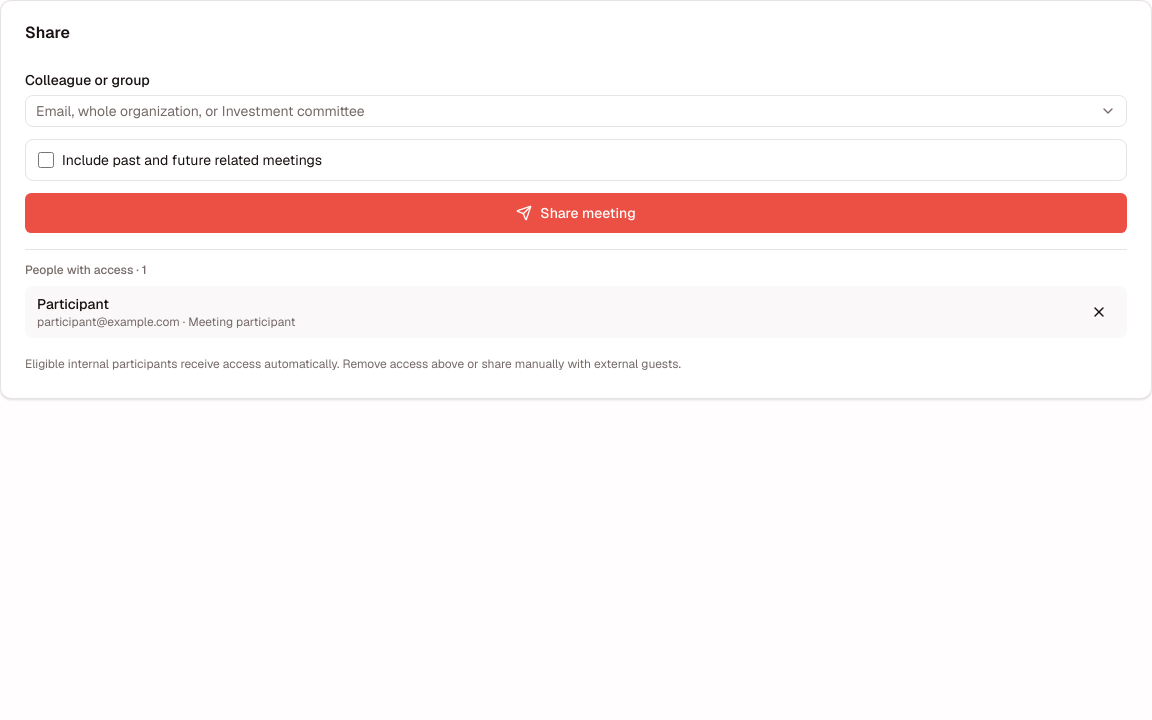
Scenario: ShareDialog interactions › shares one meeting and refreshes the access list
This screenshot has width=1152, height=720.
In the dropdown: coordinates (560, 111) x1=26 y1=96 x2=1094 y2=126, type "sid@iosg.vc"
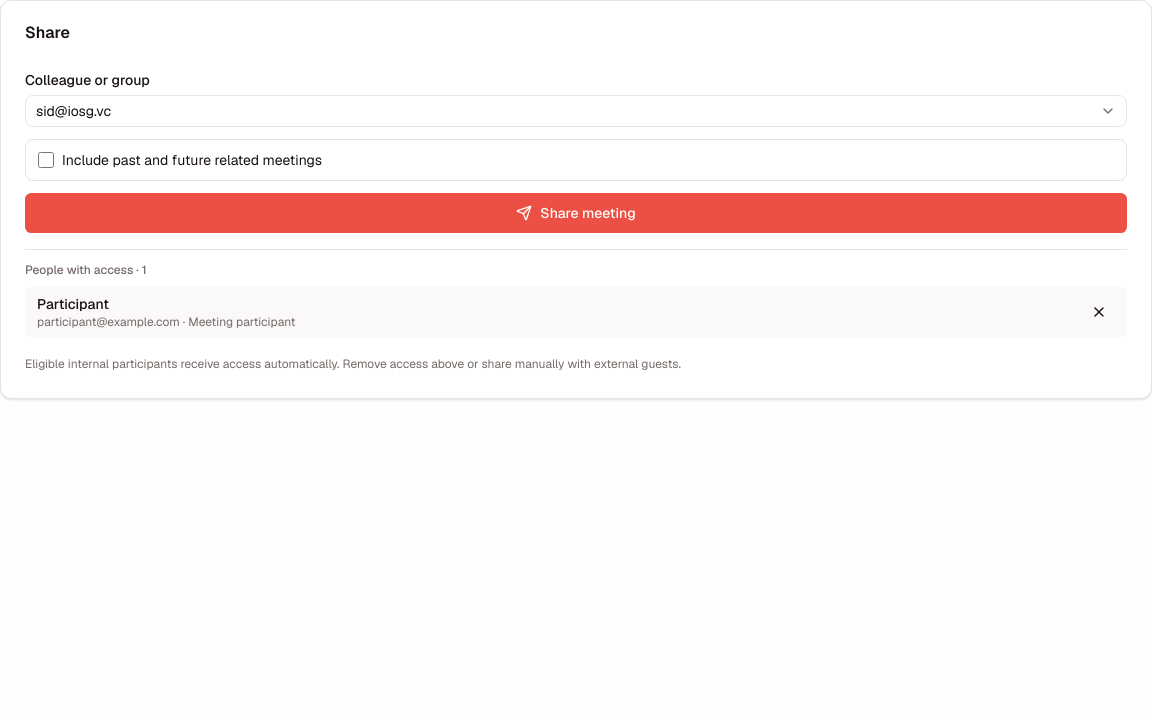
Click the button "Share meeting": coordinates (576, 213) x1=25 y1=193 x2=1127 y2=233
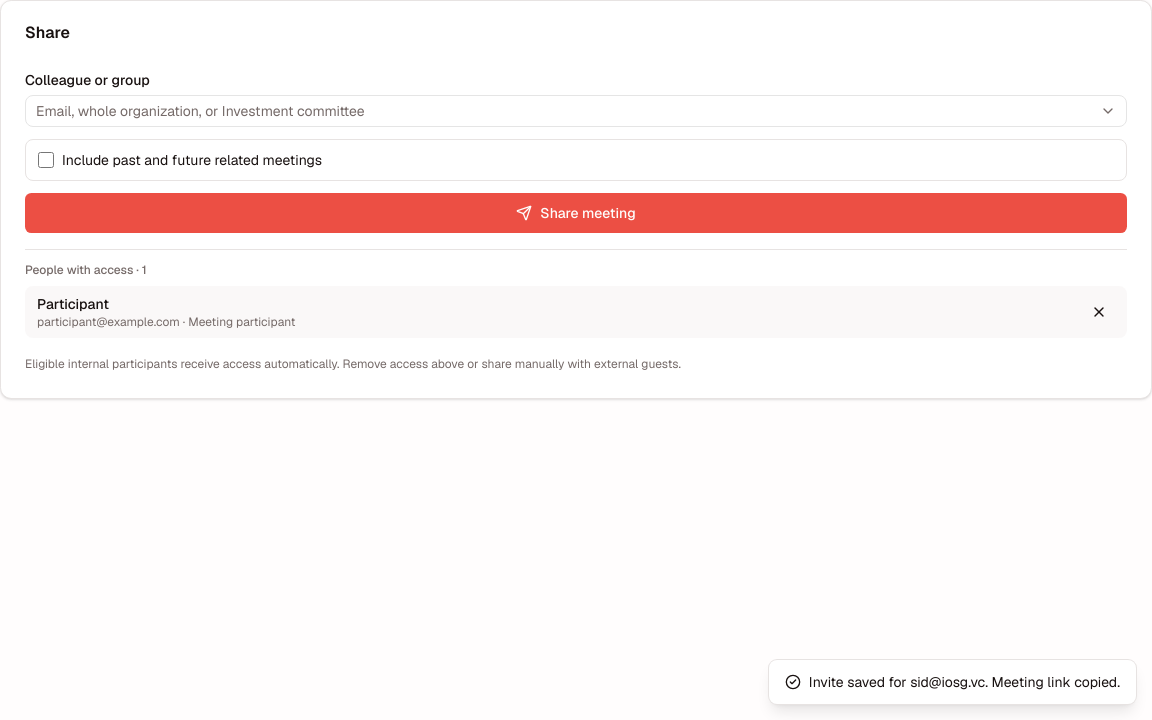
Result: the message reads "Invite saved for sid@iosg.vc. Meeting link copied." at x1=809 y1=673 x2=1120 y2=691
